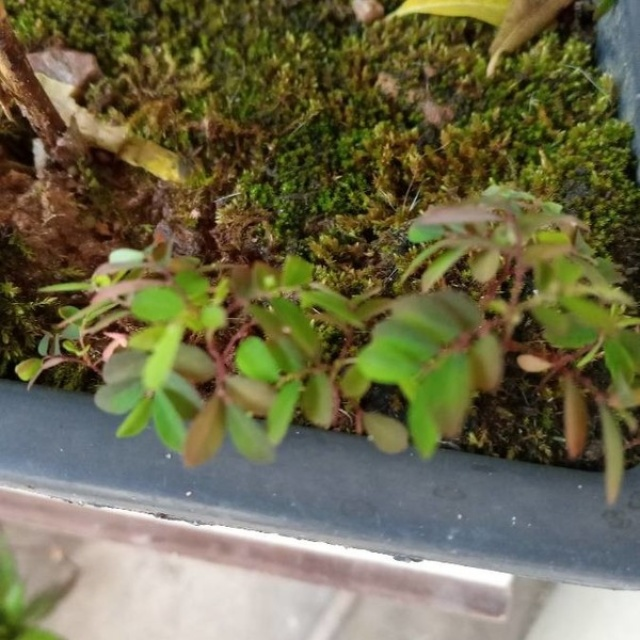obstacle: (108, 177, 633, 493)
